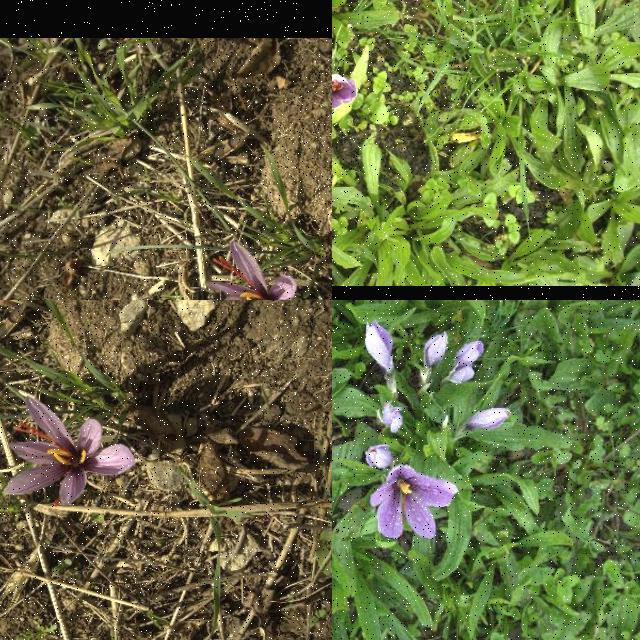flower: (2, 394, 136, 508), (190, 241, 322, 300), (369, 465, 458, 539), (366, 322, 394, 366), (468, 408, 512, 434), (332, 73, 358, 110), (424, 332, 450, 366), (366, 446, 390, 468)
overlap: (447, 342, 485, 384)
